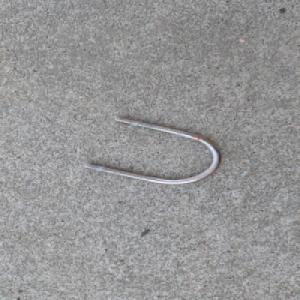ClampPart: (84, 115, 223, 184)
